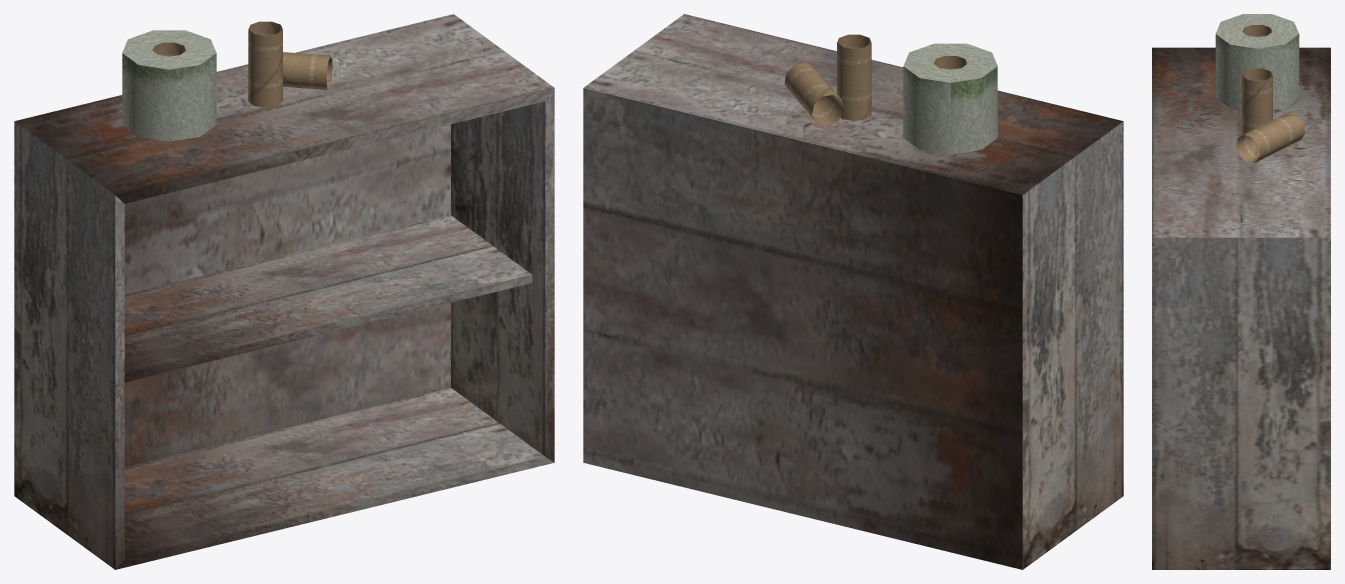
File: RepisaBano.FBX
3 views of the same model, side by side, from view 1: azimuth 30°, elevation 25°; view 2: azimuth 150°, elevation 25°; view 3: azimuth 270°, elevation 25° (orthographic). The views are drawn at different scales.
Visible parts, largest first — view 1: repisabano, Cylinder045, Object038, Object039; view 2: repisabano, Cylinder045, Object038, Object039; view 3: repisabano, Cylinder045, Object039, Object038.
Part boxes in pixels (x1,y1,x2,y2): repisabano: (14, 14, 554, 569); Cylinder045: (122, 30, 216, 141); Object038: (248, 21, 282, 107); Object039: (283, 52, 332, 89); repisabano: (583, 14, 1123, 569); Cylinder045: (903, 43, 997, 154); Object038: (837, 34, 871, 120); Object039: (784, 63, 843, 125); repisabano: (1152, 47, 1330, 569); Cylinder045: (1215, 14, 1299, 109); Object039: (1236, 111, 1305, 163); Object038: (1242, 68, 1272, 135).
Size of the model in its own units: 30.13 by 29.43 by 11.99.
